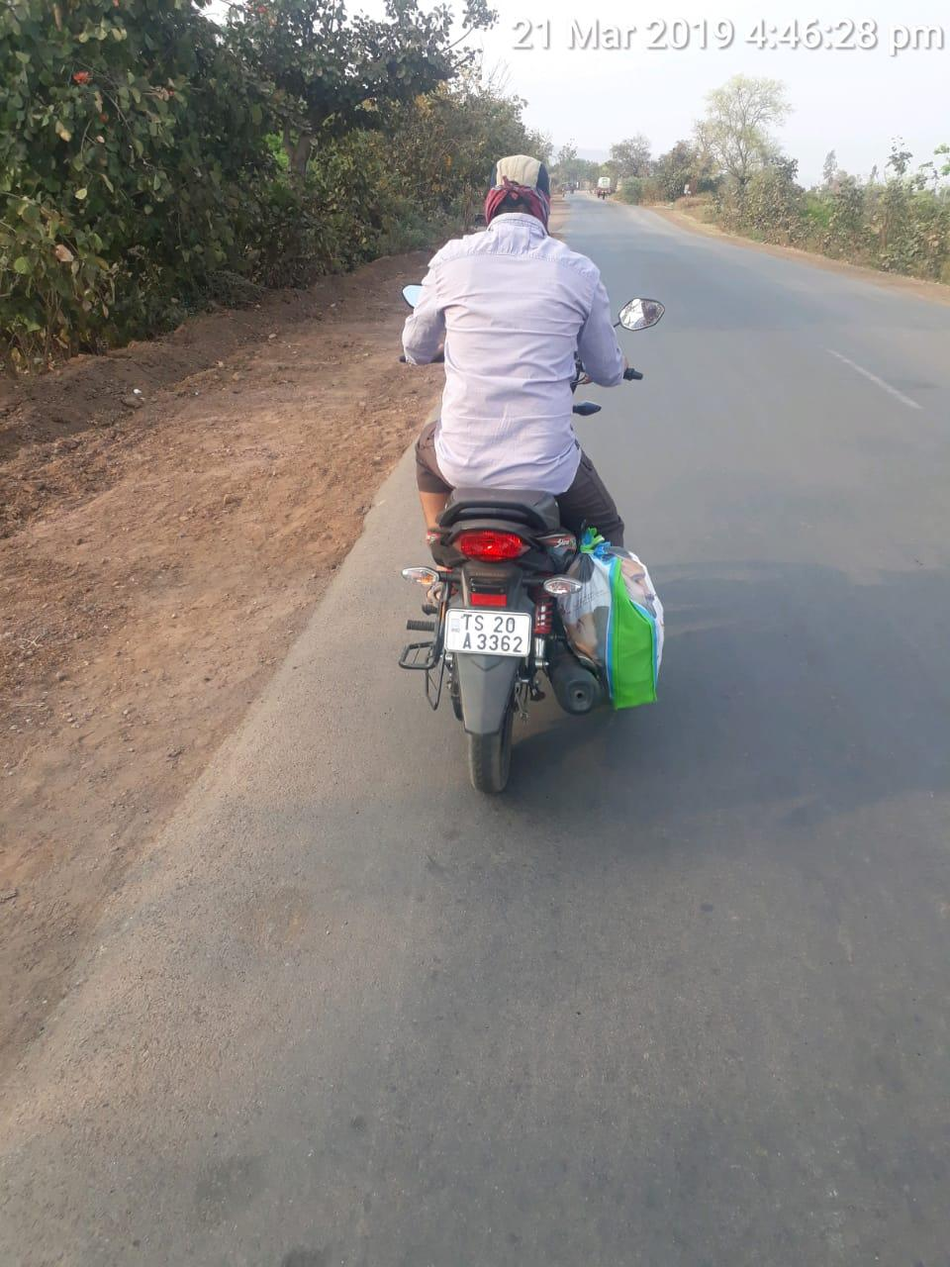plate: (428, 596, 542, 666)
